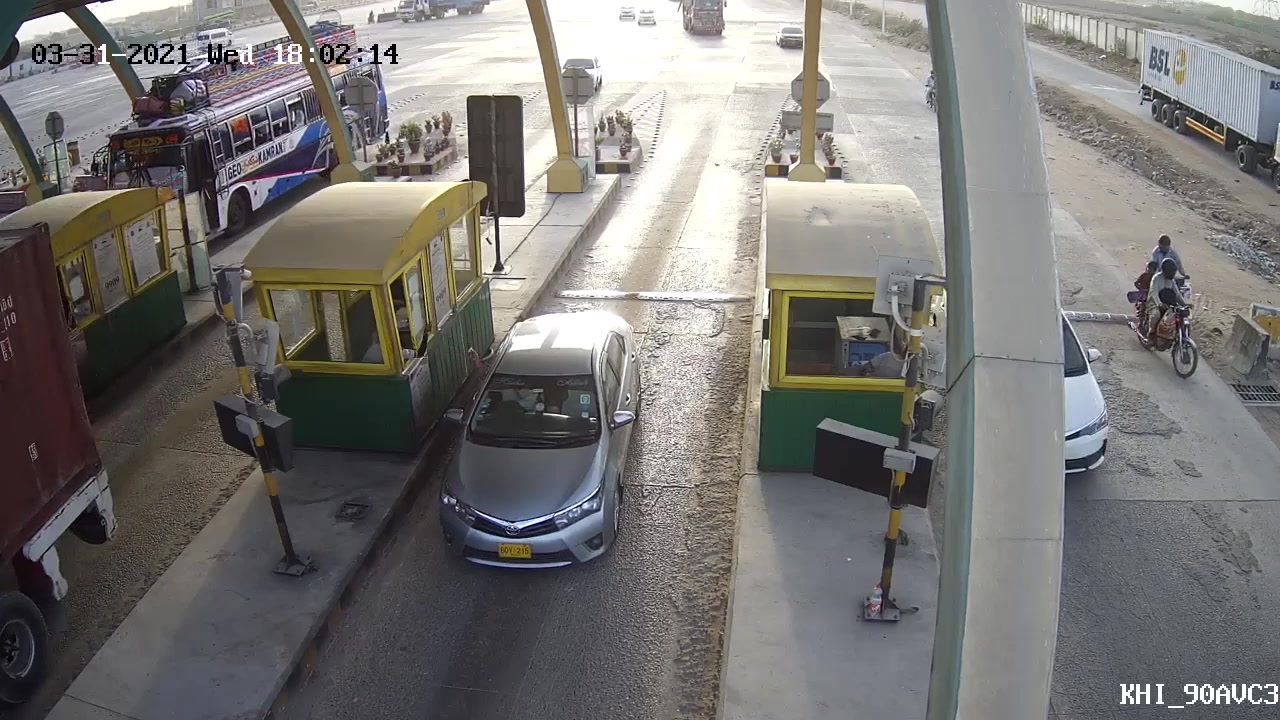F1: (421, 297, 658, 583)
